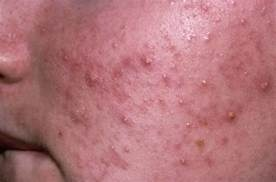Acne: (256, 75, 271, 94), (225, 106, 237, 125), (140, 53, 155, 68), (174, 94, 188, 110), (196, 76, 211, 90)
